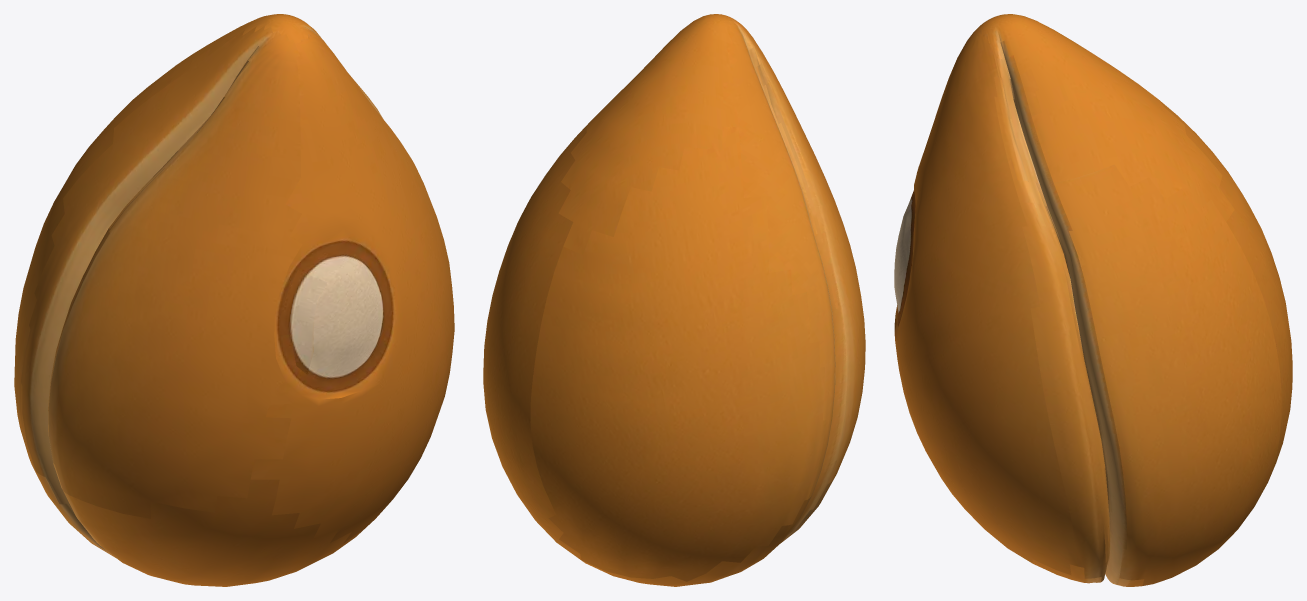
File: tohum.glb
3 renders of one model, left to right at view 1: azimuth 30°, elevation 25°; view 2: azimuth 150°, elevation 25°; view 3: azimuth 270°, elevation 25°, orthographic. The views are drawn at different scales.
Parts seen in each view (by area): view 1: Mesh0; view 2: Mesh0; view 3: Mesh0.
Part boxes in pixels (left/top/right/bottom): Mesh0: left=14, top=14, right=454, bottom=586; Mesh0: left=483, top=14, right=865, bottom=586; Mesh0: left=894, top=14, right=1292, bottom=586.
Bounding box in the file's own units: 1.3 × 1.9 × 1.24.
Materials: 1 (1 with a texture image).
